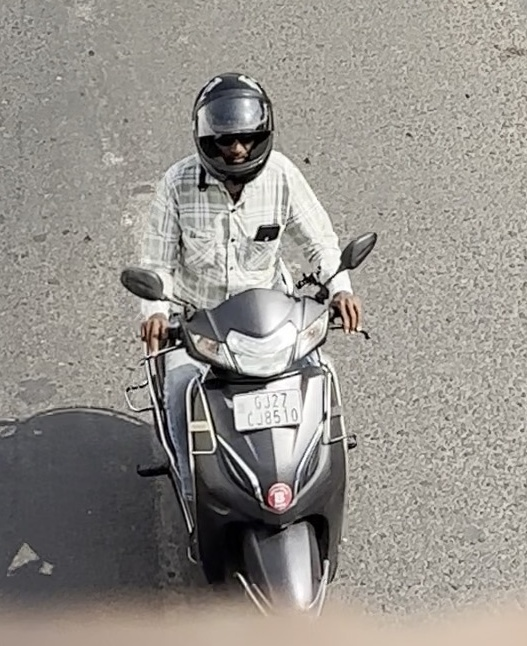BikeWithRider: (117, 69, 385, 628)
Helmet: (189, 71, 277, 182)
